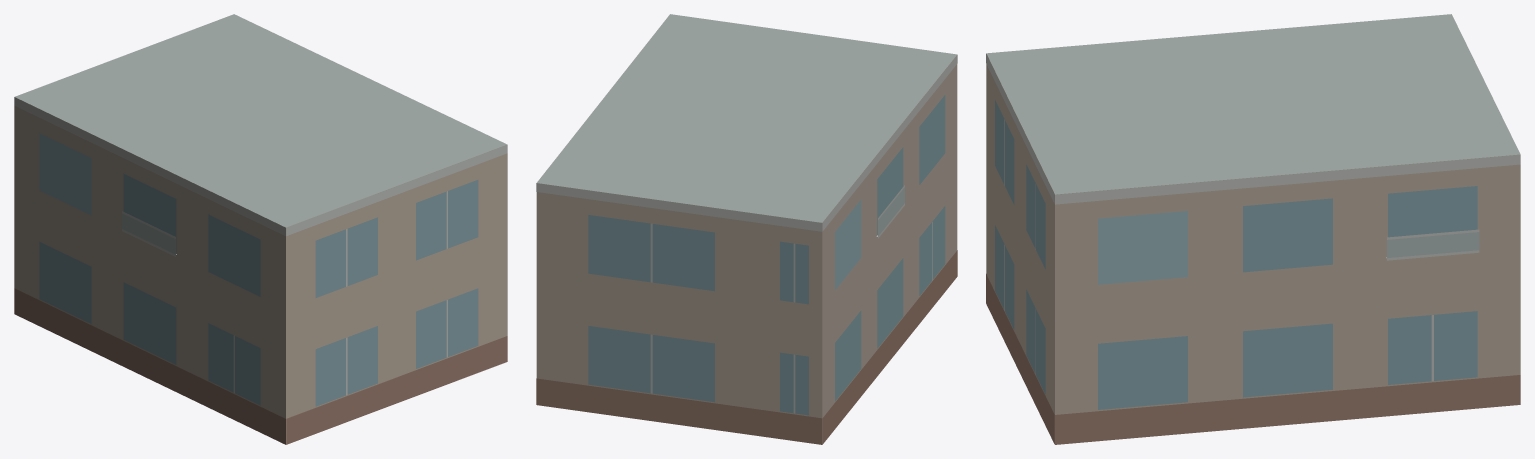
The model's file is survey-upis-32705671.glb.
3 renders of one model, left to right at view 1: azimuth 30°, elevation 25°; view 2: azimuth 150°, elevation 25°; view 3: azimuth 270°, elevation 25°, orthographic. The views are drawn at different scales.
Visible parts, largest first — view 1: survey-upis-32705671.tmp; view 2: survey-upis-32705671.tmp; view 3: survey-upis-32705671.tmp.
Boxes of the visible parts, <box> form: survey-upis-32705671.tmp: <box>14,14,507,444</box>; survey-upis-32705671.tmp: <box>536,14,957,444</box>; survey-upis-32705671.tmp: <box>986,14,1520,444</box>.
Size of the model in its own units: 9.45 by 6.1 by 11.82.
